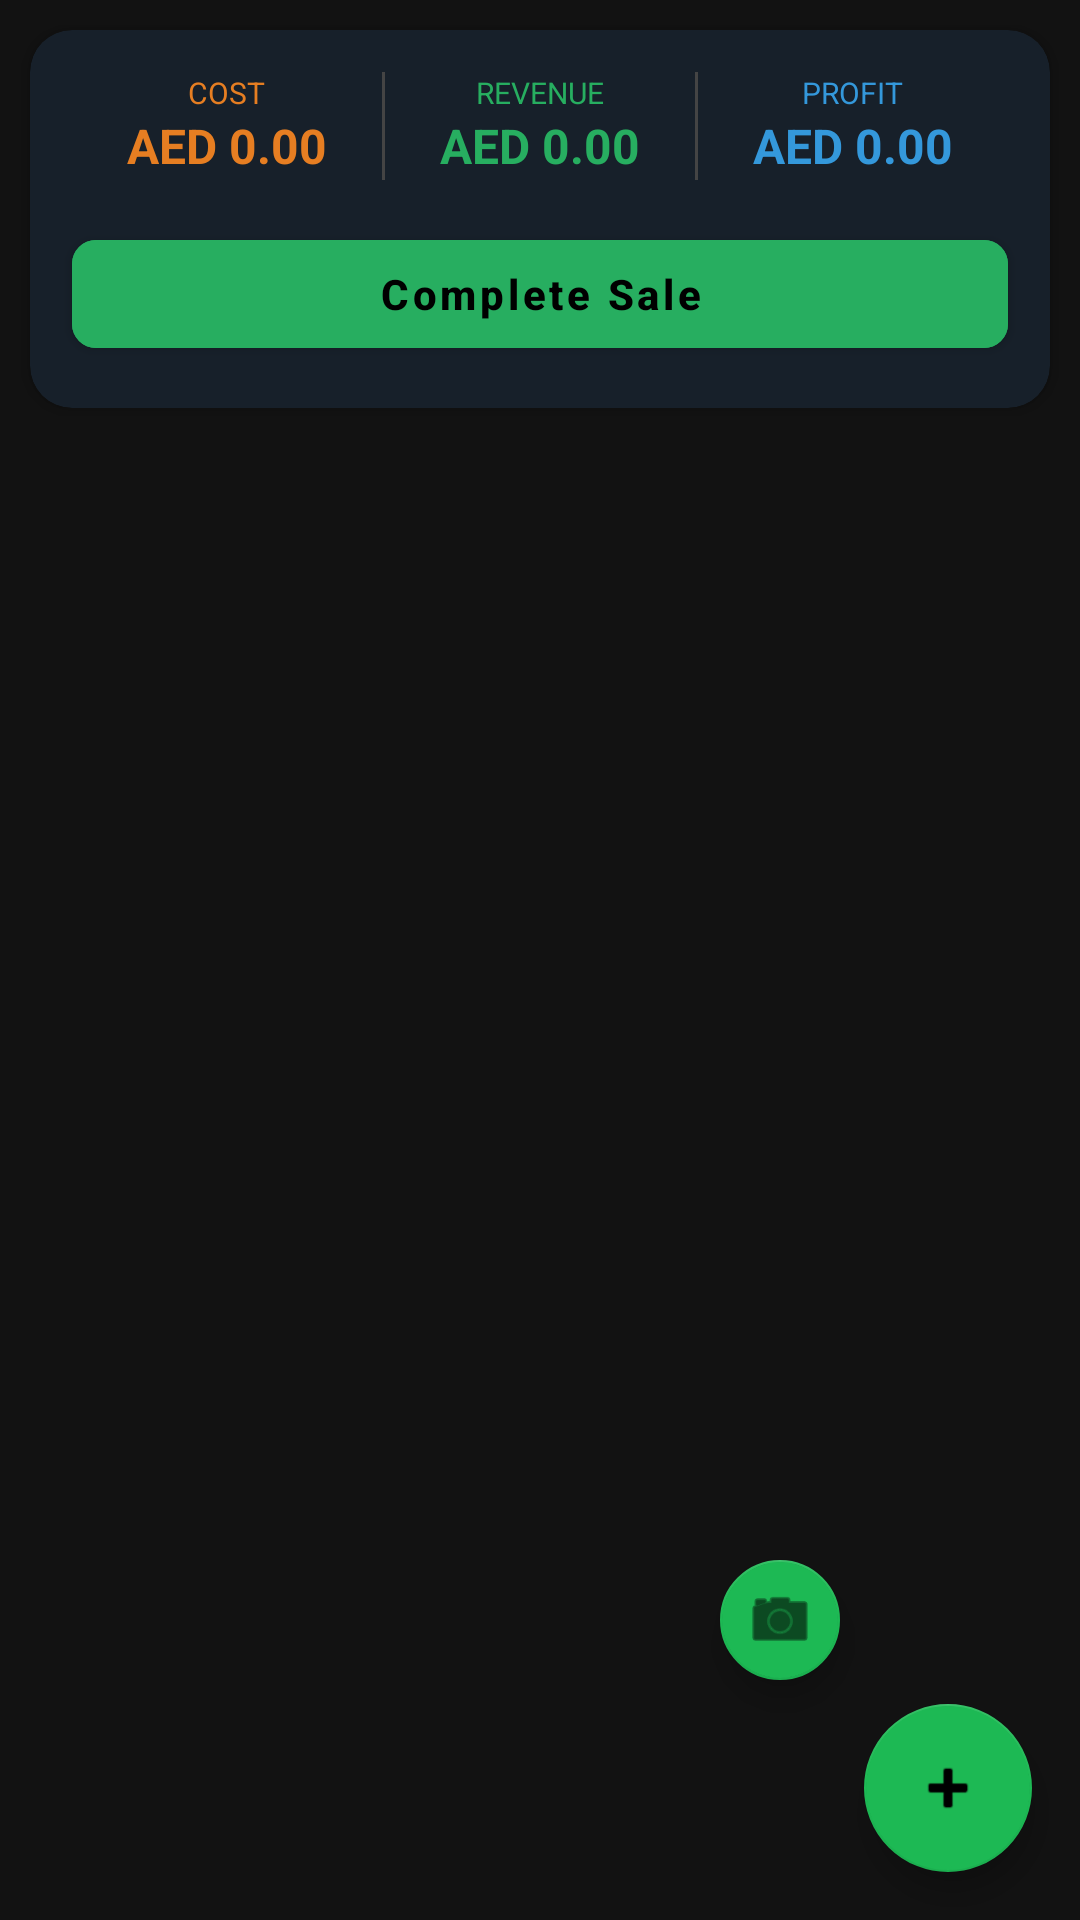

Point at icon controls on the screen. Image size 1080*1920, points as (x=x, y=y).
Add Item: (x=948, y=1788)
Scan Item: (x=780, y=1620)
